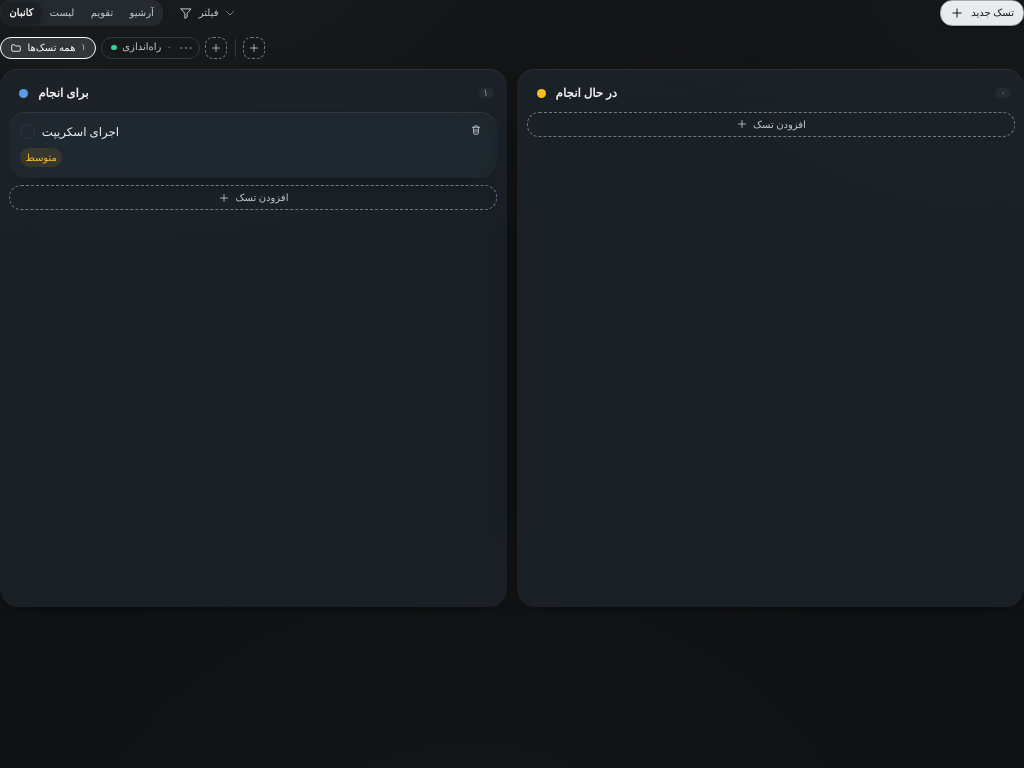
Test: TaskBoard › a click opens the card and moves nothing — a release before the hold is a click
Expected: the text "اجرای اسکریپت" is shown, [42, 124, 119, 138]
Click the button "اجرای اسکریپت متوسط": (80, 132) [9, 112, 498, 178]
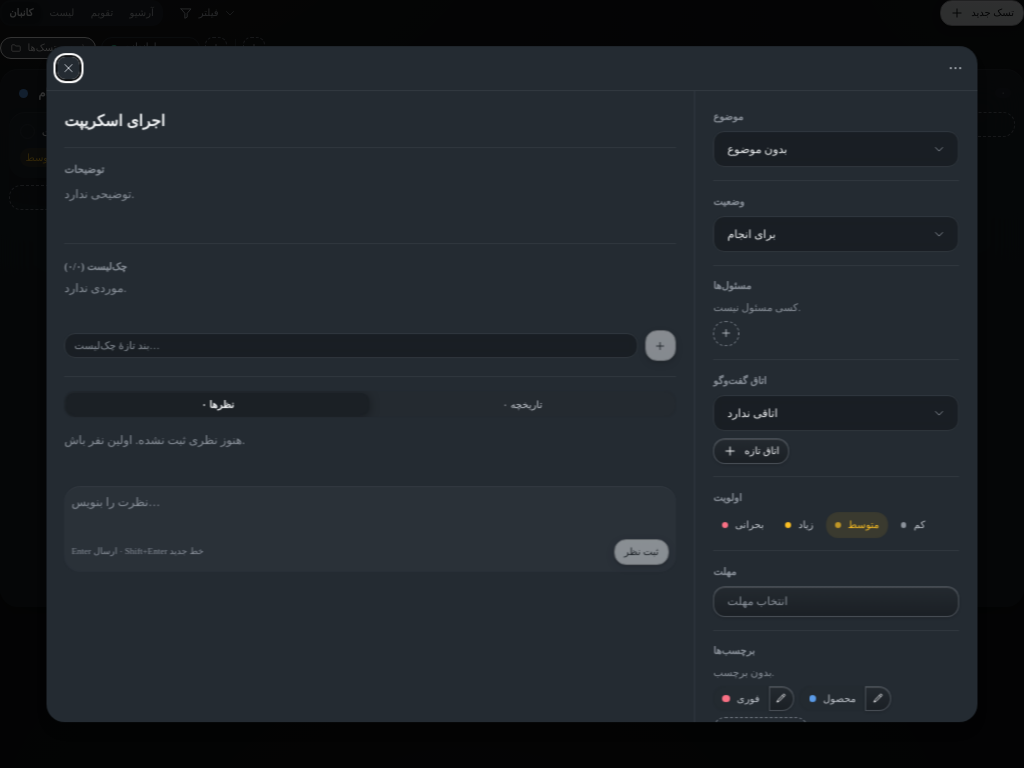
Expected: the dialog is shown
